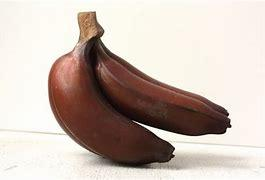banana: (38, 47, 241, 155)
